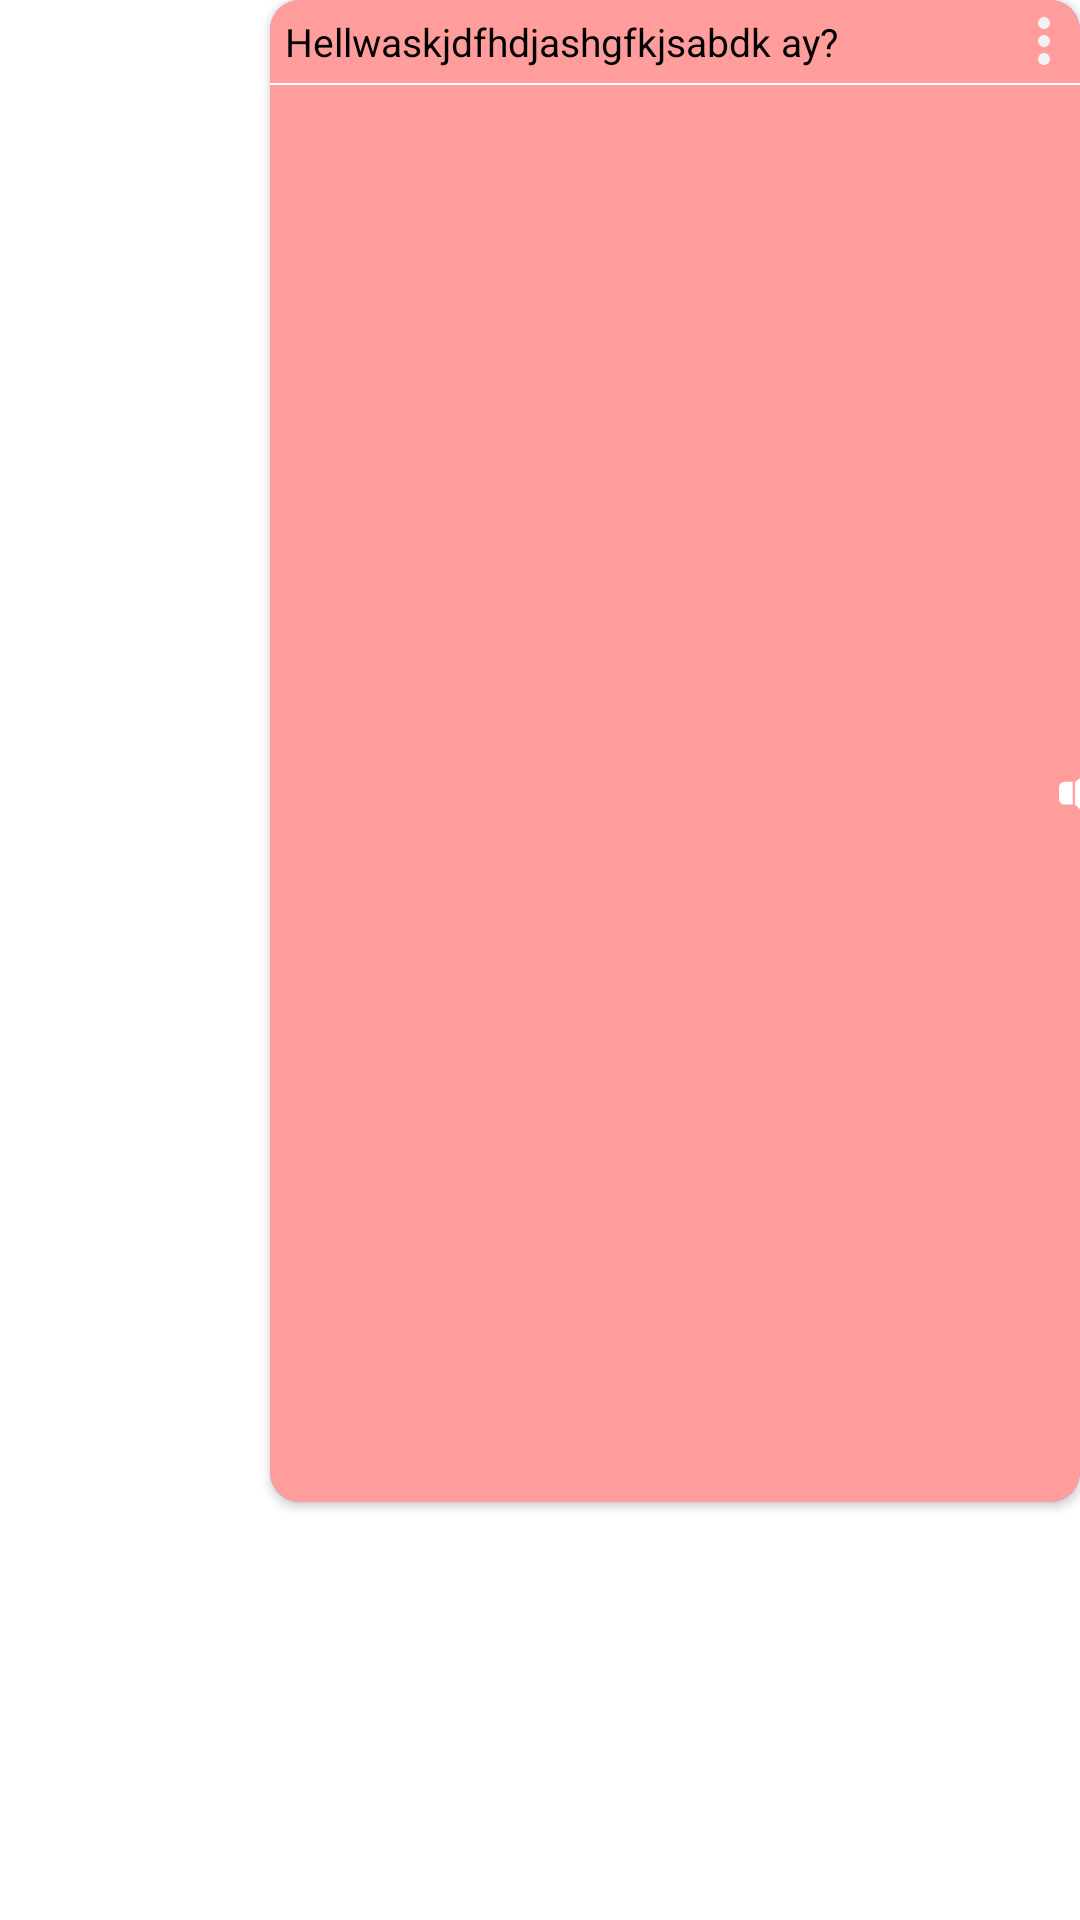

Screen size 1080w x 1920h. Icon name, then its box in pixels as (x1, y1, x2, y2):
menu: (1038, 17, 1050, 65)
